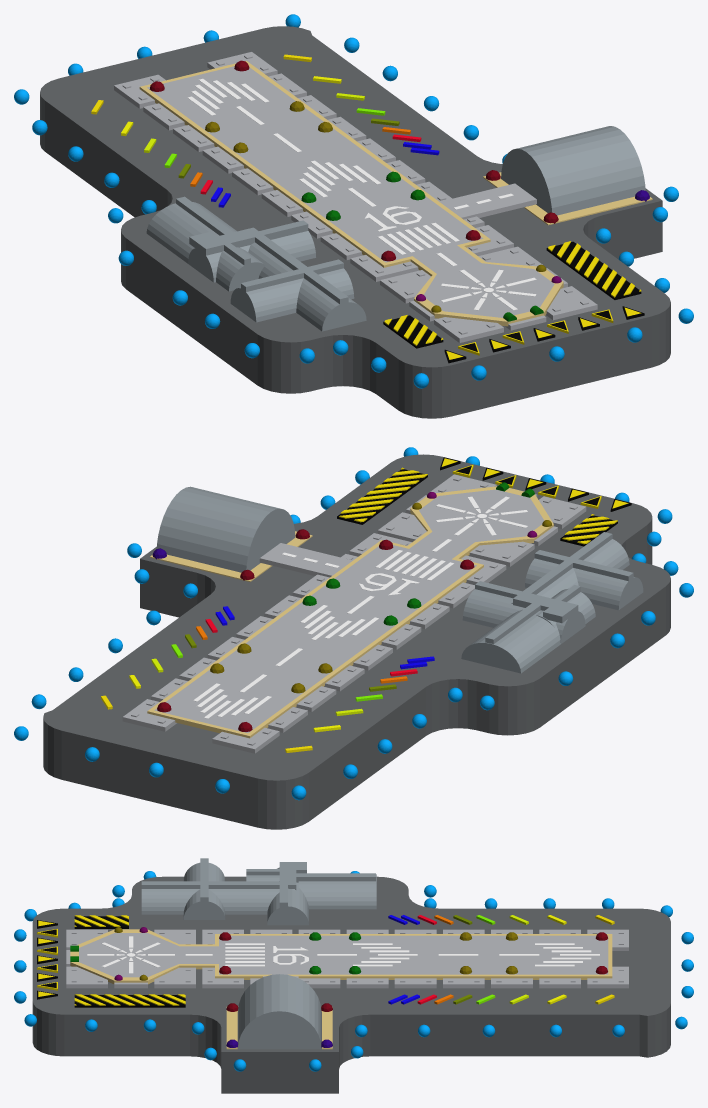
The model's file is Carrier.dae.
3 renders of one model, top to bottom at view 1: azimuth 30°, elevation 25°; view 2: azimuth 150°, elevation 25°; view 3: azimuth 270°, elevation 25°, orthographic. The views are drawn at different scales.
Visible parts, largest first — view 1: Cube.045, Cube.024, Cylinder.008, Cylinder.004, Cylinder.003, Cylinder.007, Cube.121, Cylinder.005, Cube.090, Cylinder.006, Cube.084, Cube.036 (+12 smaller); view 2: Cube.045, Cube.024, Cylinder.008, Cylinder.007, Cylinder.003, Cylinder.005, Cube.121, Cylinder.004, Cube.039, Cube.090, Cube.084, Cube.059 (+9 smaller); view 3: Cube.045, Cube.024, Cylinder.008, Cylinder.004, Cylinder.007, Cylinder.003, Cylinder.005, Cube.084, Cube.090, Cube.040, Cube.088, Cube.035 (+15 smaller).
Boxes of the visible parts, <box> form: Cube.045: <box>40,26,670,418</box>; Cube.024: <box>139,61,563,326</box>; Cylinder.008: <box>501,126,645,215</box>; Cylinder.004: <box>248,242,366,331</box>; Cylinder.003: <box>230,268,354,322</box>; Cylinder.007: <box>146,202,236,263</box>; Cube.121: <box>440,183,536,219</box>; Cylinder.005: <box>188,231,315,282</box>; Cube.090: <box>546,241,641,299</box>; Cylinder.006: <box>214,235,265,291</box>; Cube.084: <box>247,229,348,304</box>; Cube.036: <box>434,317,503,342</box>; Cube.045: <box>43,454,670,829</box>; Cube.024: <box>147,486,553,738</box>; Cylinder.008: <box>156,486,295,572</box>; Cylinder.007: <box>461,609,560,673</box>; Cylinder.003: <box>525,558,643,610</box>; Cylinder.005: <box>462,589,585,643</box>; Cube.121: <box>259,543,352,577</box>; Cylinder.004: <box>511,539,629,603</box>; Cube.039: <box>468,541,534,566</box>; Cube.090: <box>337,469,427,524</box>; Cube.084: <box>523,532,612,594</box>; Cube.059: <box>212,727,279,753</box>; Cube.045: <box>32,876,670,1093</box>; Cube.024: <box>70,929,612,984</box>; Cylinder.008: <box>238,974,321,1049</box>; Cylinder.004: <box>141,889,294,914</box>; Cylinder.007: <box>298,874,376,909</box>; Cylinder.003: <box>183,862,225,919</box>; Cylinder.005: <box>267,867,308,925</box>; Cube.084: <box>141,881,292,888</box>; Cube.090: <box>74,995,185,1007</box>; Cube.040: <box>154,967,195,988</box>; Cube.088: <box>288,873,375,882</box>; Cube.035: <box>66,966,107,988</box>.
Size of the model in its own units: 43.8 by 65 by 8.4.
